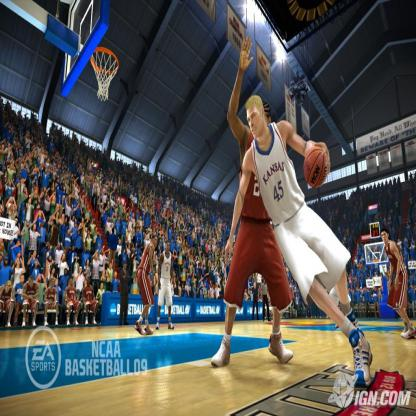face: (247, 110, 262, 138), (382, 232, 388, 244), (156, 237, 159, 248), (29, 279, 33, 286), (168, 244, 171, 252), (8, 285, 11, 293), (21, 278, 25, 284), (53, 282, 56, 289), (124, 264, 127, 270), (18, 255, 21, 261), (39, 276, 42, 282), (34, 252, 37, 258), (18, 261, 21, 266), (71, 280, 74, 285), (56, 280, 59, 285), (110, 264, 113, 269), (53, 270, 56, 274), (116, 273, 118, 279), (52, 276, 54, 281), (66, 271, 68, 276), (88, 280, 90, 285), (80, 269, 82, 274), (102, 285, 104, 290), (96, 254, 98, 259), (88, 261, 90, 265)
